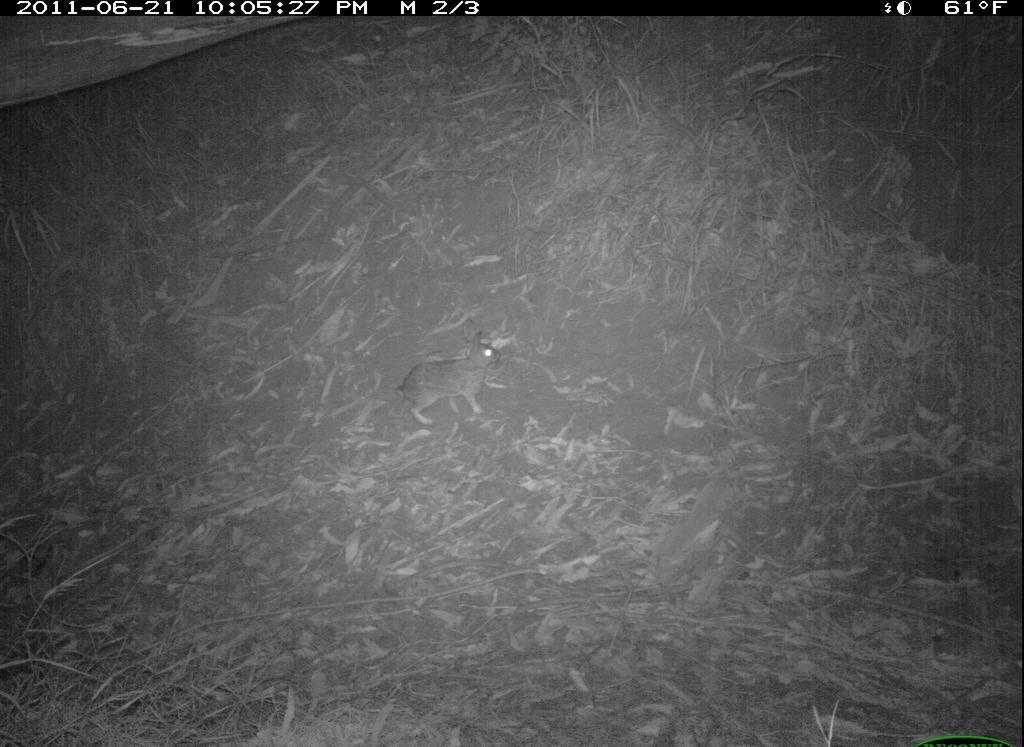rabbit: (397, 331, 507, 428)
